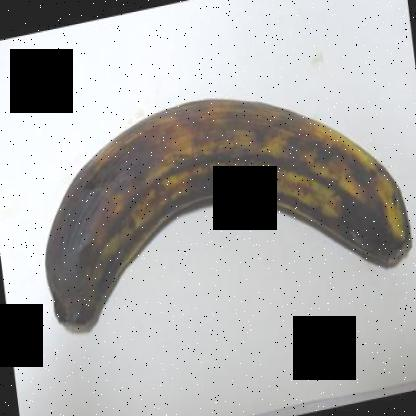overripe: (37, 94, 412, 358)
rotten: (50, 199, 121, 338)
